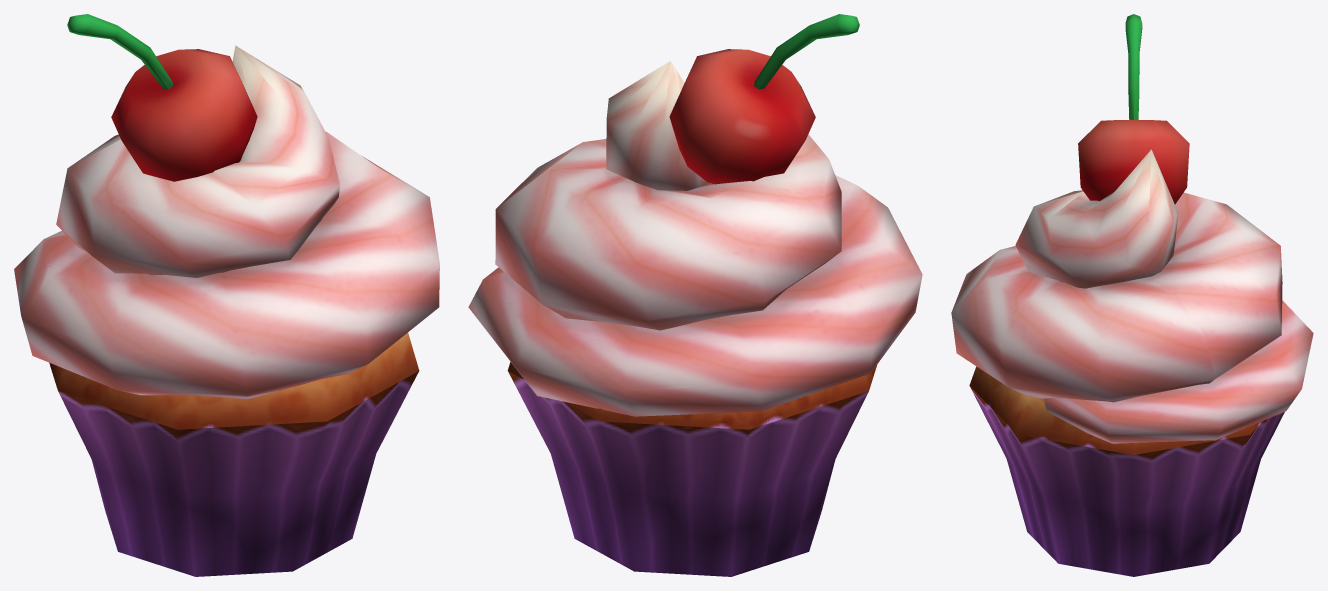
File: SE_Cupcake_01.fbx
3 renders of one model, left to right at view 1: azimuth 30°, elevation 25°; view 2: azimuth 150°, elevation 25°; view 3: azimuth 270°, elevation 25°, orthographic. The views are drawn at different scales.
Visible parts, largest first — view 1: SE_Cupcake_01; view 2: SE_Cupcake_01; view 3: SE_Cupcake_01.
Part boxes in pixels (x1,y1,x2,y2): SE_Cupcake_01: (14, 14, 439, 576); SE_Cupcake_01: (468, 14, 922, 576); SE_Cupcake_01: (951, 14, 1313, 576).
Size of the model in its own units: 1.37 by 1.89 by 1.36.
